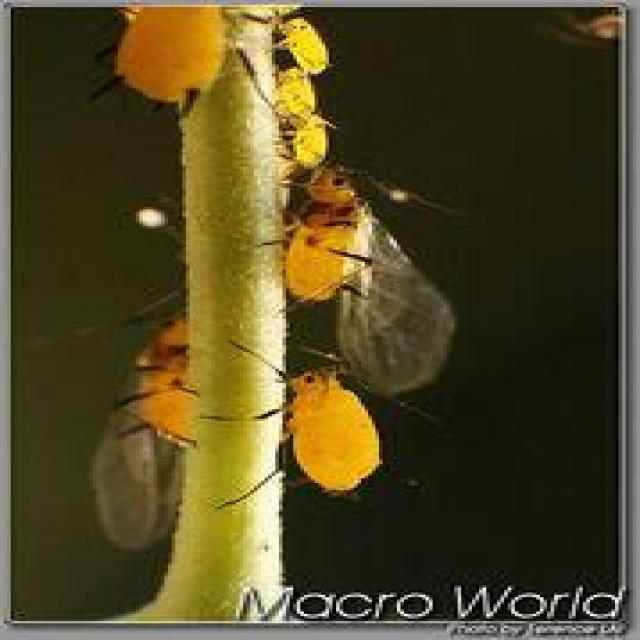Aphids: (255, 153, 494, 396), (205, 337, 455, 529)
